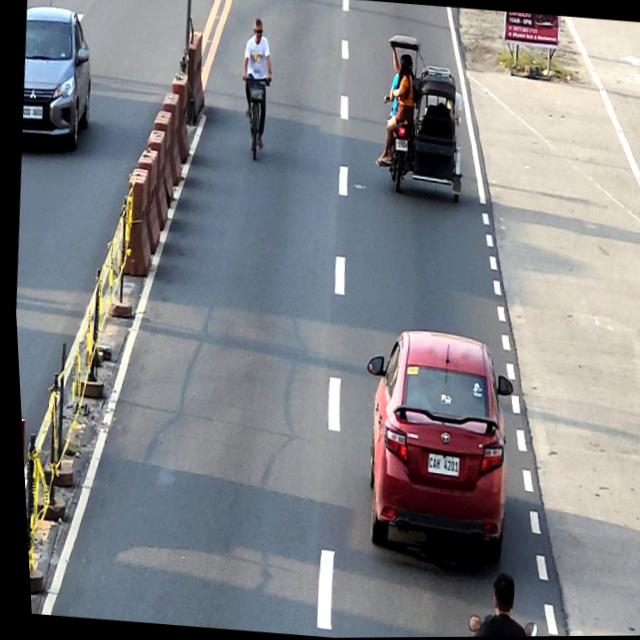Bicycle: (235, 73, 273, 163)
Car: (344, 325, 521, 566), (14, 5, 98, 149)
License-Plate: (421, 453, 456, 477), (21, 105, 42, 119), (392, 138, 407, 151)
Tricycle: (372, 33, 474, 203)
